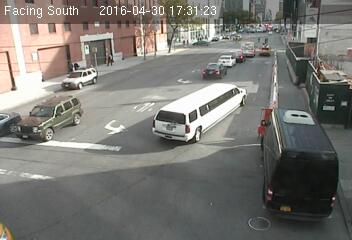neg: (155, 99, 188, 143), (127, 58, 159, 102), (263, 113, 295, 156), (234, 93, 263, 131), (95, 190, 124, 227), (48, 80, 76, 118), (28, 164, 55, 199), (211, 158, 237, 193), (244, 24, 270, 59), (290, 45, 316, 80), (153, 171, 178, 205), (197, 54, 221, 87), (310, 120, 332, 150), (102, 147, 124, 176), (77, 48, 98, 76), (157, 34, 175, 58)
